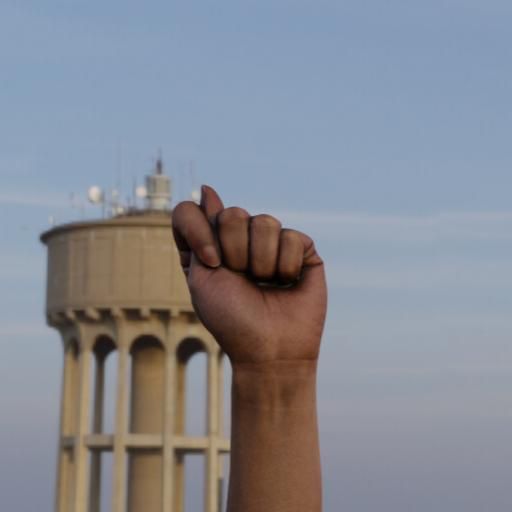T: (165, 172, 351, 400)
